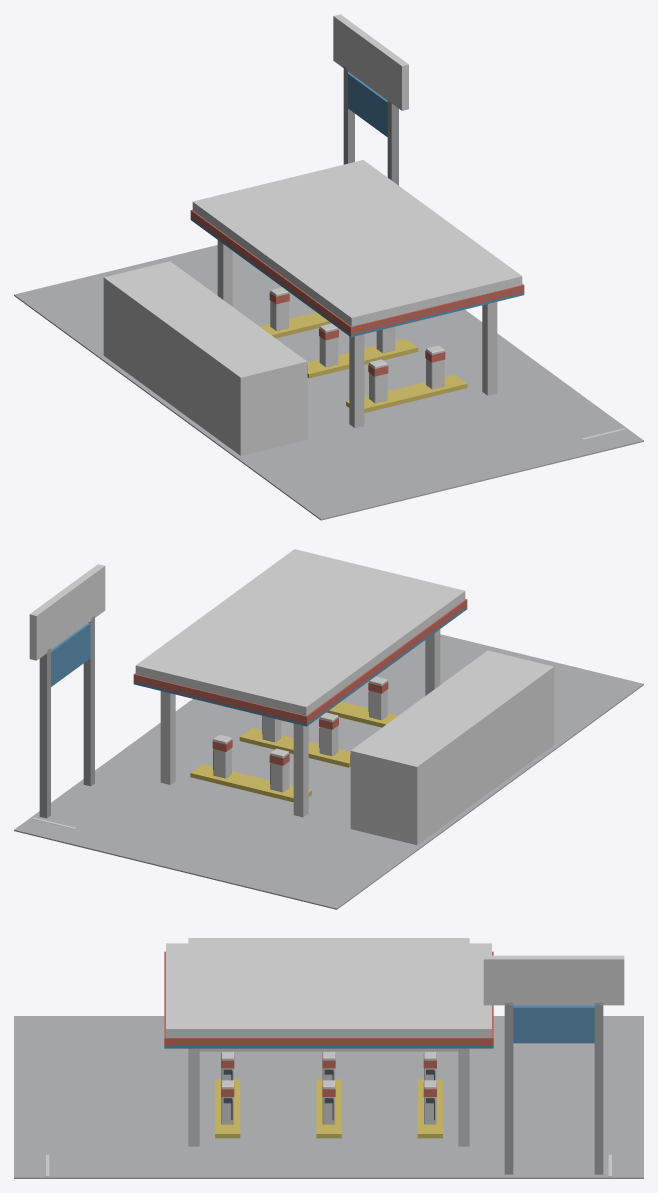
File: lm_spbu.glb
The picture shows the model from 3 angles, top to bottom: view 1: azimuth 30°, elevation 25°; view 2: azimuth 150°, elevation 25°; view 3: azimuth 270°, elevation 25°; orthographic projection. The views are drawn at different scales.
Parts seen in each view (by area): view 1: main; view 2: main; view 3: main.
Part boxes in pixels (x1,y1,x2,y2): main: [14, 14, 643, 520]; main: [14, 549, 643, 909]; main: [14, 938, 643, 1178].
Size of the model in its own units: 13.6 by 8.5 by 22.4.
